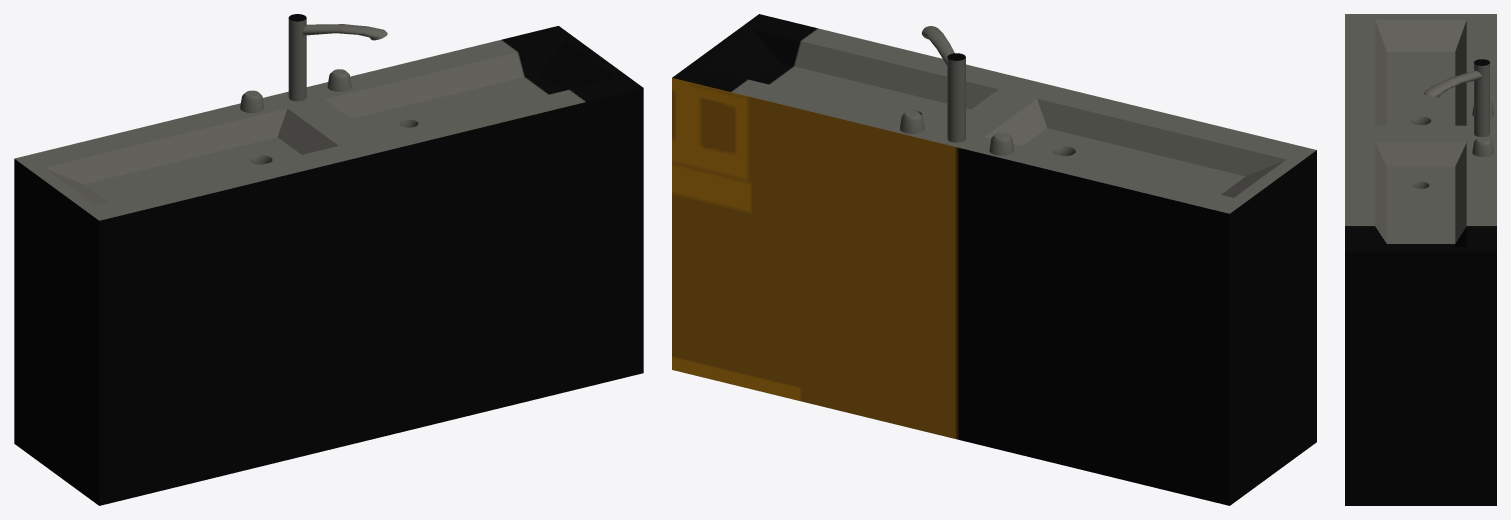
File: sink.fbx
3 views of the same model, side by side, from view 1: azimuth 30°, elevation 25°; view 2: azimuth 150°, elevation 25°; view 3: azimuth 270°, elevation 25° (orthographic). The views are drawn at different scales.
Parts seen in each view (by area): view 1: pCube3; view 2: pCube3; view 3: pCube3.
Boxes of the visible parts, x1,y1,x2,y2 form: pCube3: (14,14,643,505); pCube3: (672,14,1316,505); pCube3: (1345,14,1496,505).
Size of the model in its own units: 12.64 by 8.1 by 3.42.
